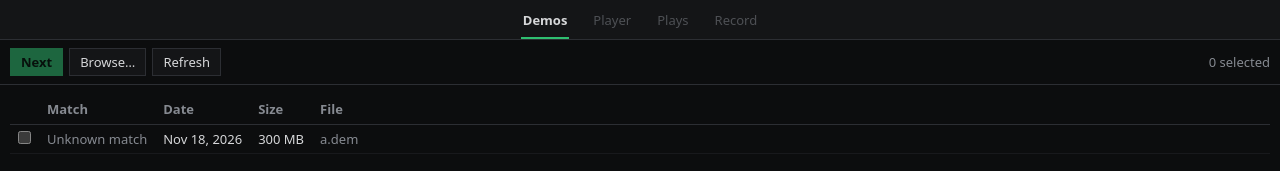
Test: the whole flow plans with the length saved in settings
Click the checkbox named "a.dem".
click(24, 137)  # box left=18, top=131, right=31, bottom=144
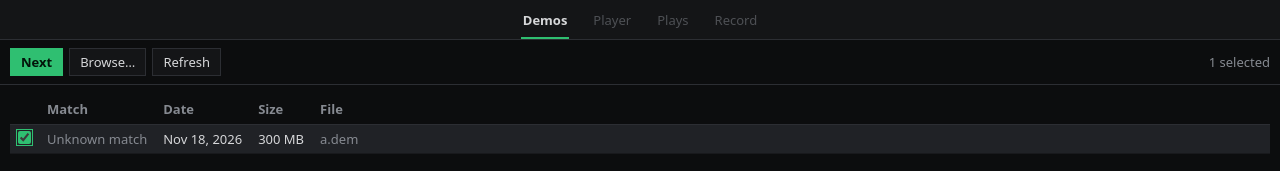
Click the button "Next".
click(37, 62)  # box left=10, top=48, right=63, bottom=76
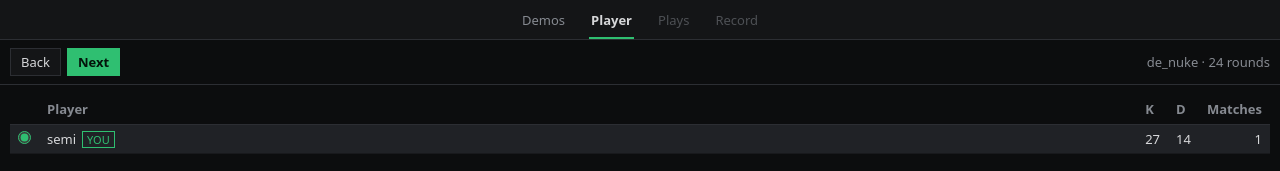
Now the radio button named "semi" is checked, box left=18, top=131, right=31, bottom=144
Click the button "Next".
click(94, 62)  # box left=67, top=48, right=120, bottom=76
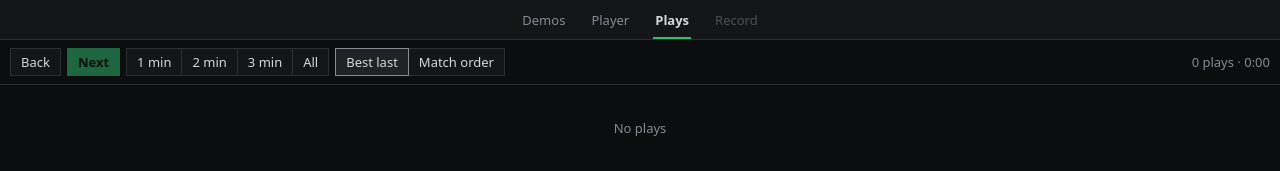
Expected: the tab "Record" is disabled, left=713, top=9, right=760, bottom=39
Now the tab "Plays" is selected, box left=653, top=9, right=691, bottom=39
